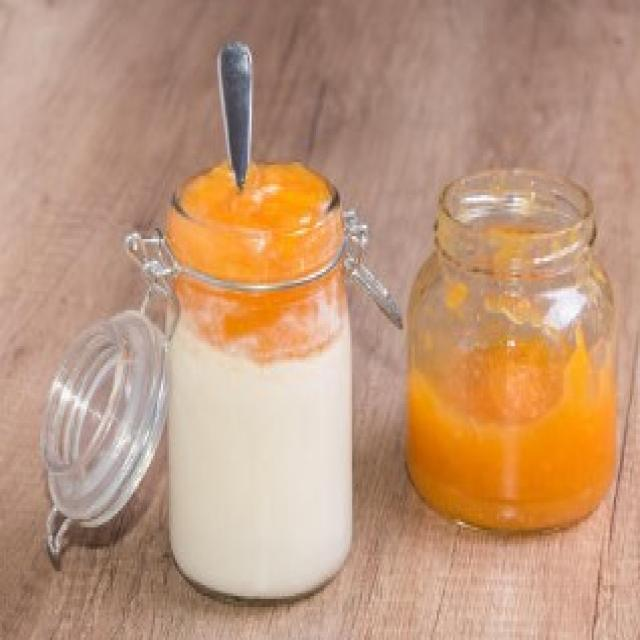electronic: (43, 162, 620, 609)
